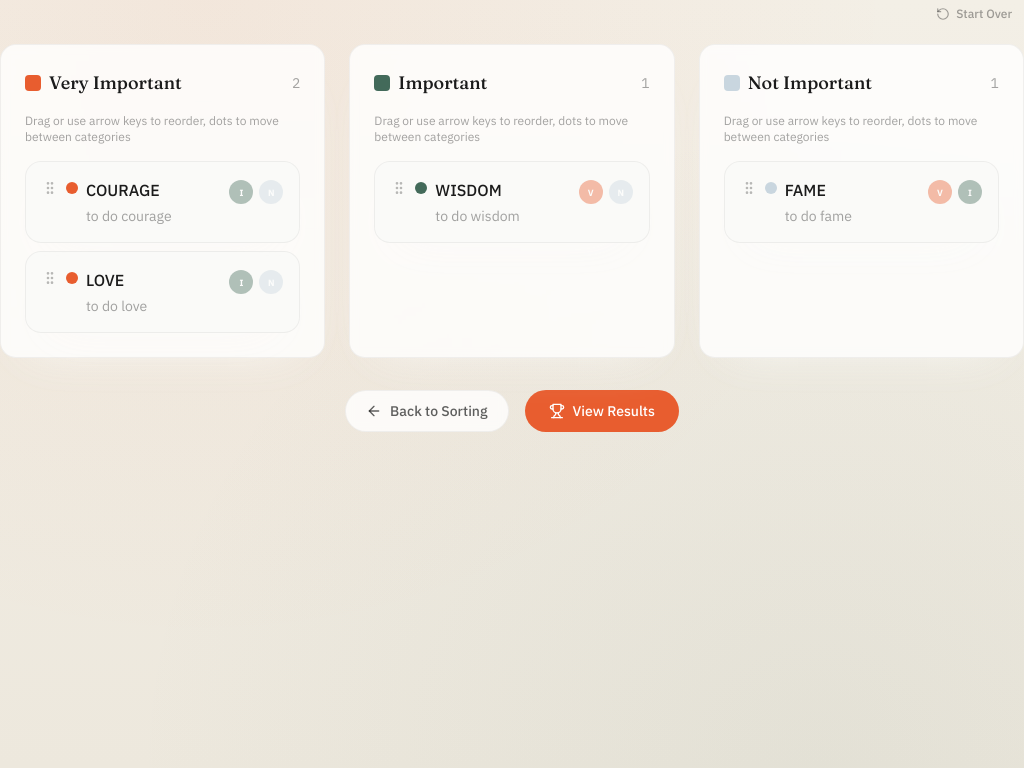
Test: RankingPhase › closes modal on Cancel
Step 1. Click the button "Start Over" → {"x": 974, "y": 14}, box [924, 0, 1023, 28]
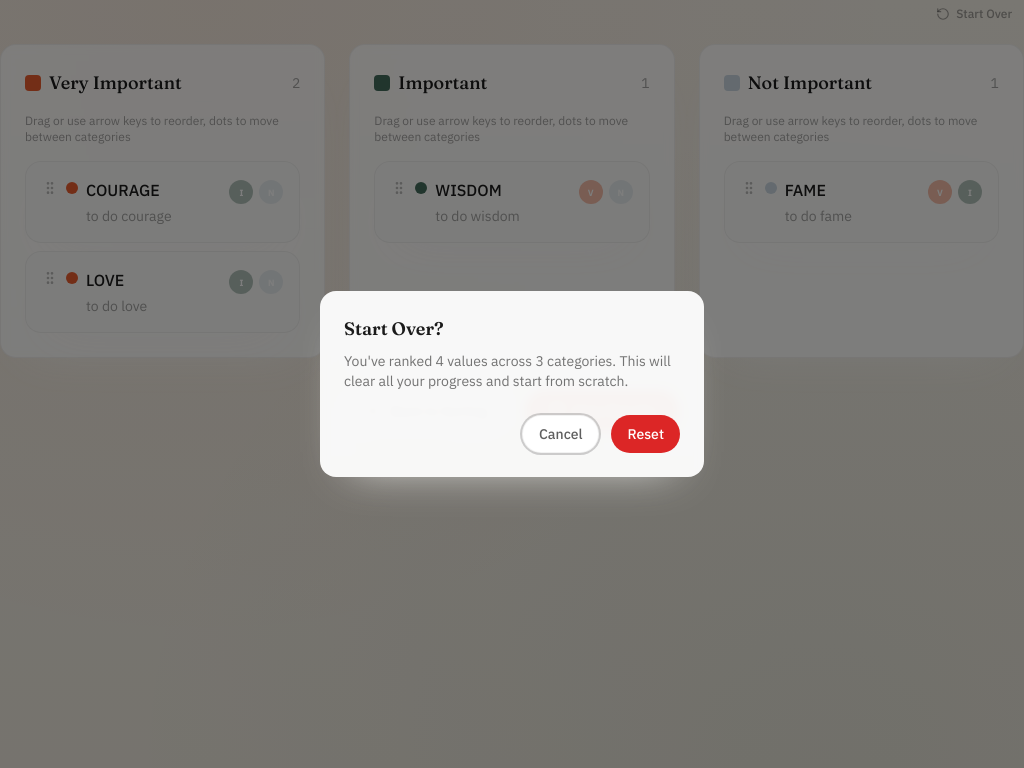
Step 2. Click the button "Cancel" → {"x": 561, "y": 434}, box [522, 415, 600, 453]
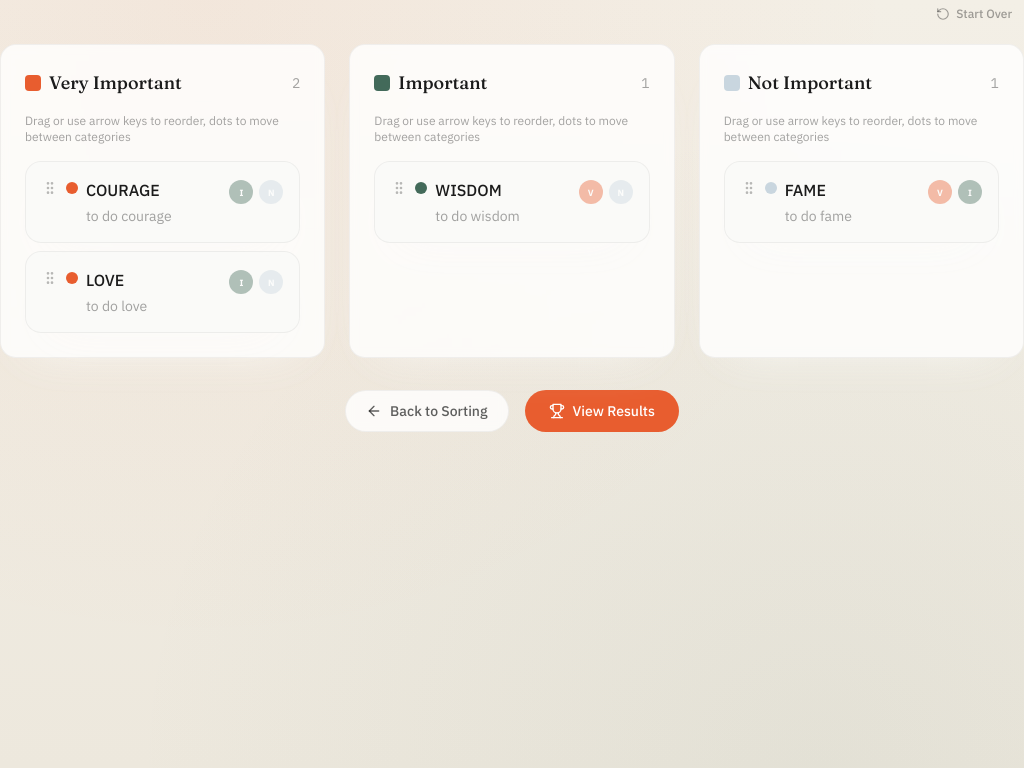
Result: the dialog is gone
